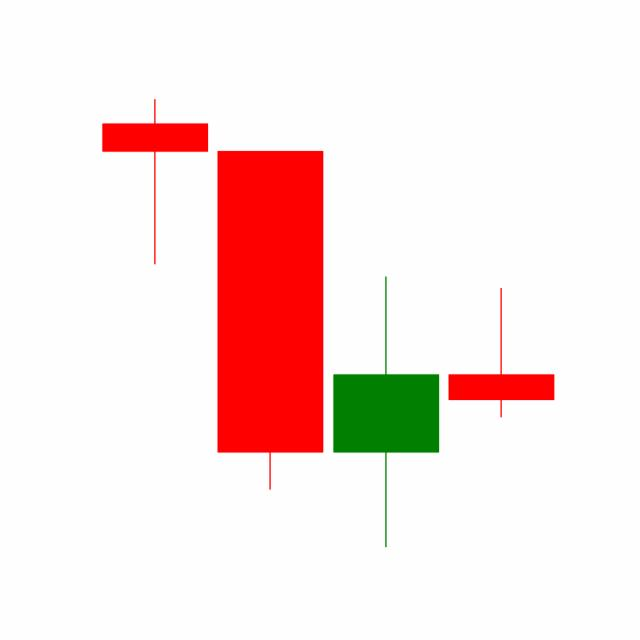Gravestone Doji: (443, 286, 559, 419)
